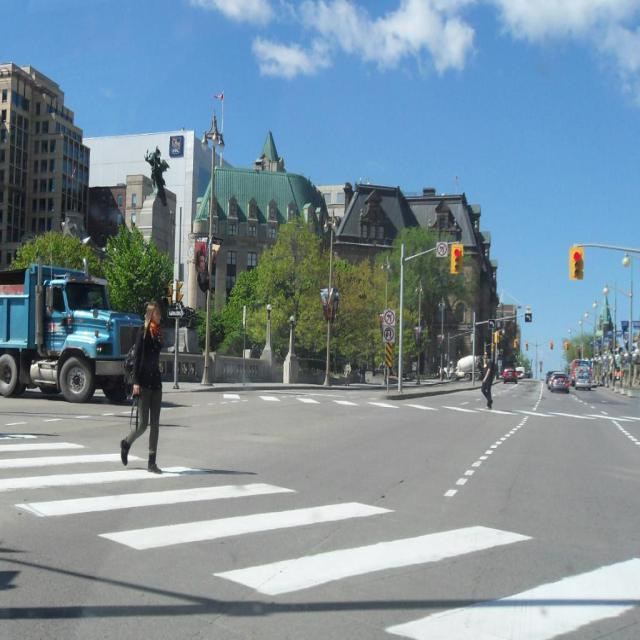off traffic light: (178, 281, 183, 302)
traffic light: (569, 245, 583, 281), (450, 244, 463, 273), (162, 283, 171, 307)
